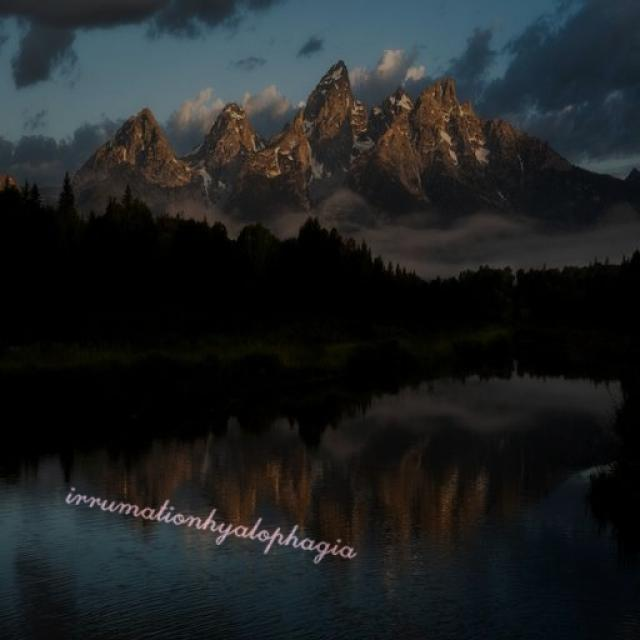watermark: (57, 478, 377, 564)
